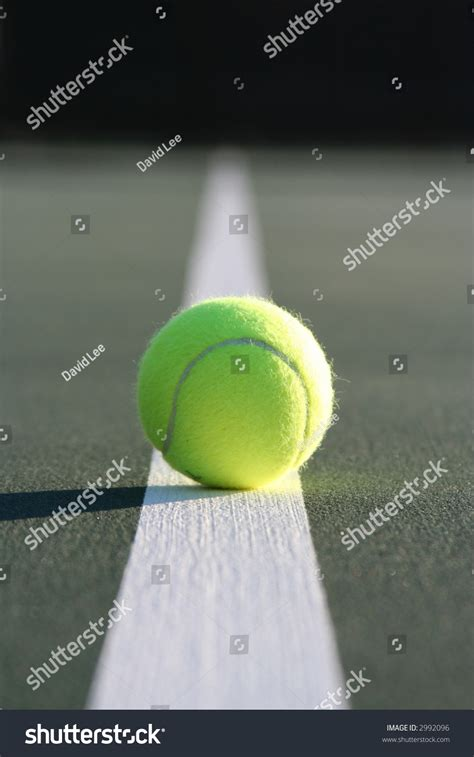tennis_ball: (137, 296, 333, 490)
